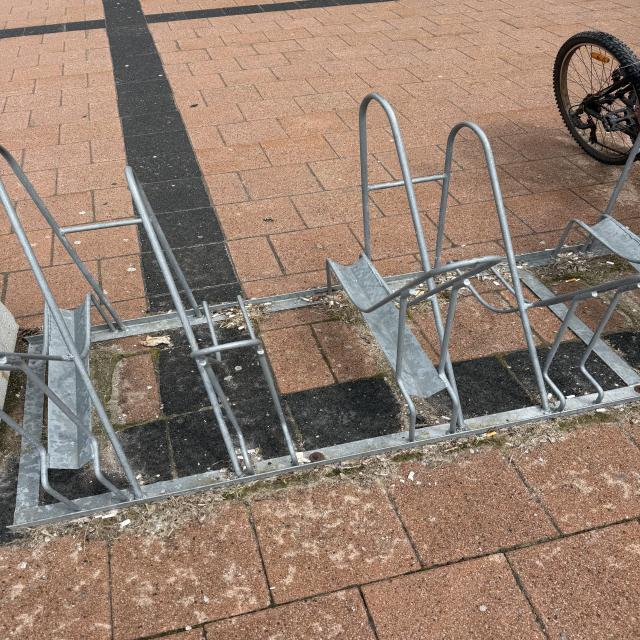Bicycle Rack: (0, 87, 640, 534)
